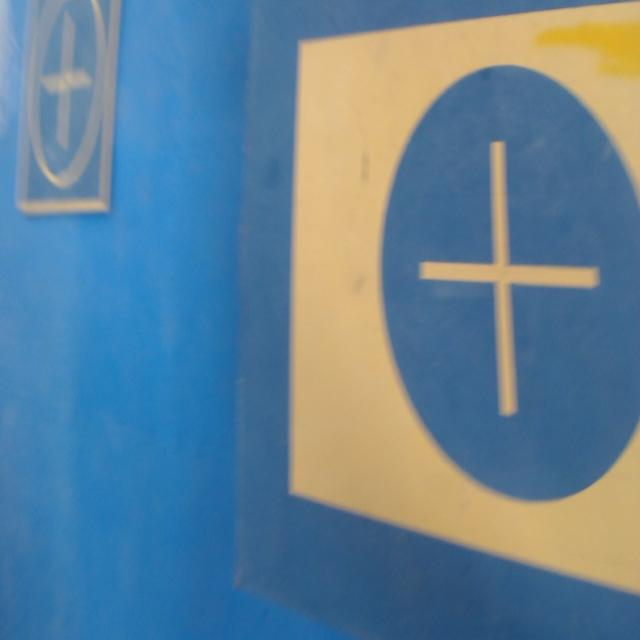base_inicio: (288, 0, 640, 595), (16, 0, 122, 211)
